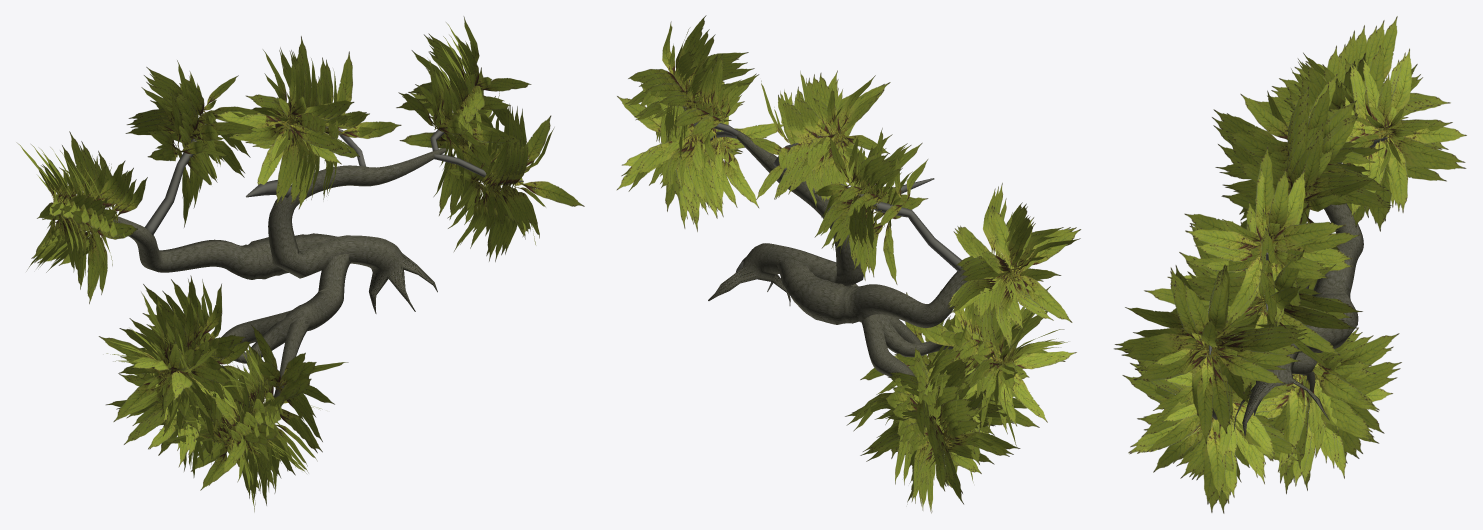
The model's file is tree_932x02.gltf.
3 views of the same model, side by side, from view 1: azimuth 30°, elevation 25°; view 2: azimuth 150°, elevation 25°; view 3: azimuth 270°, elevation 25° (orthographic). The views are drawn at different scales.
Parts seen in each view (by area): view 1: tree_932x02; view 2: tree_932x02; view 3: tree_932x02.
Boxes of the visible parts, x1,y1,x2,y2 form: tree_932x02: (16,16,584,511); tree_932x02: (616,15,1081,513); tree_932x02: (1113,16,1466,513).
Size of the model in its own units: 14.42 by 12.33 by 8.1.
2 materials, 2 textured.
